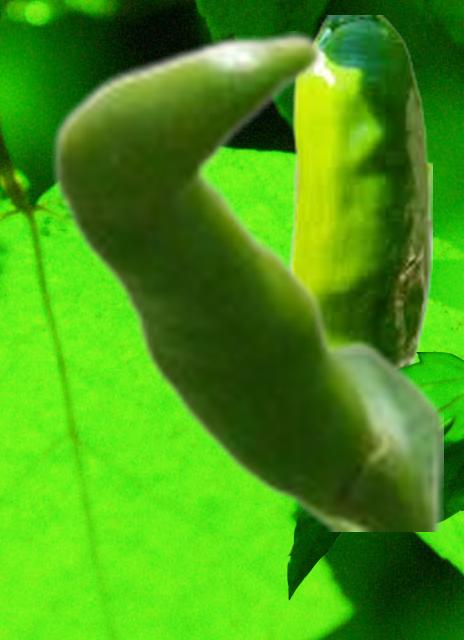green_chili: (50, 31, 442, 530), (284, 15, 431, 365)
